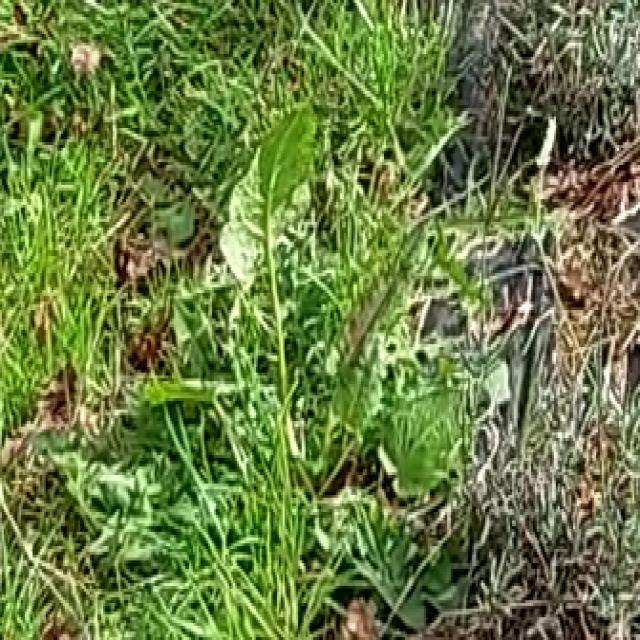organic waste: (160, 57, 388, 498)
